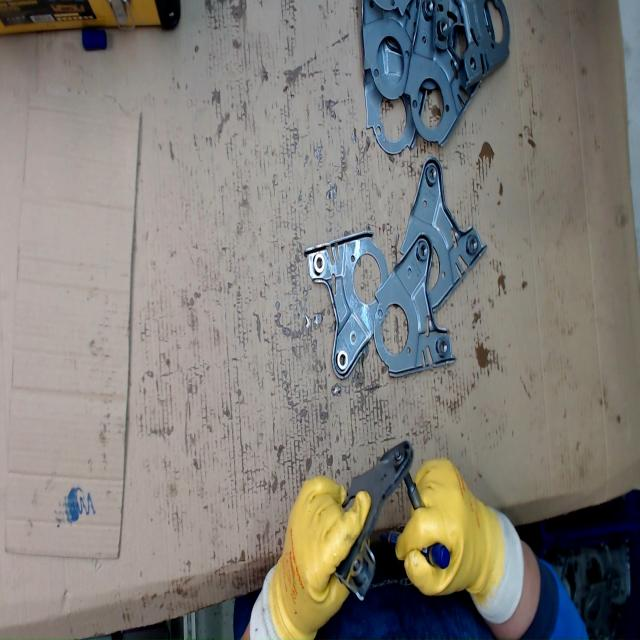hands: (270, 476, 372, 640), (392, 455, 502, 605)
